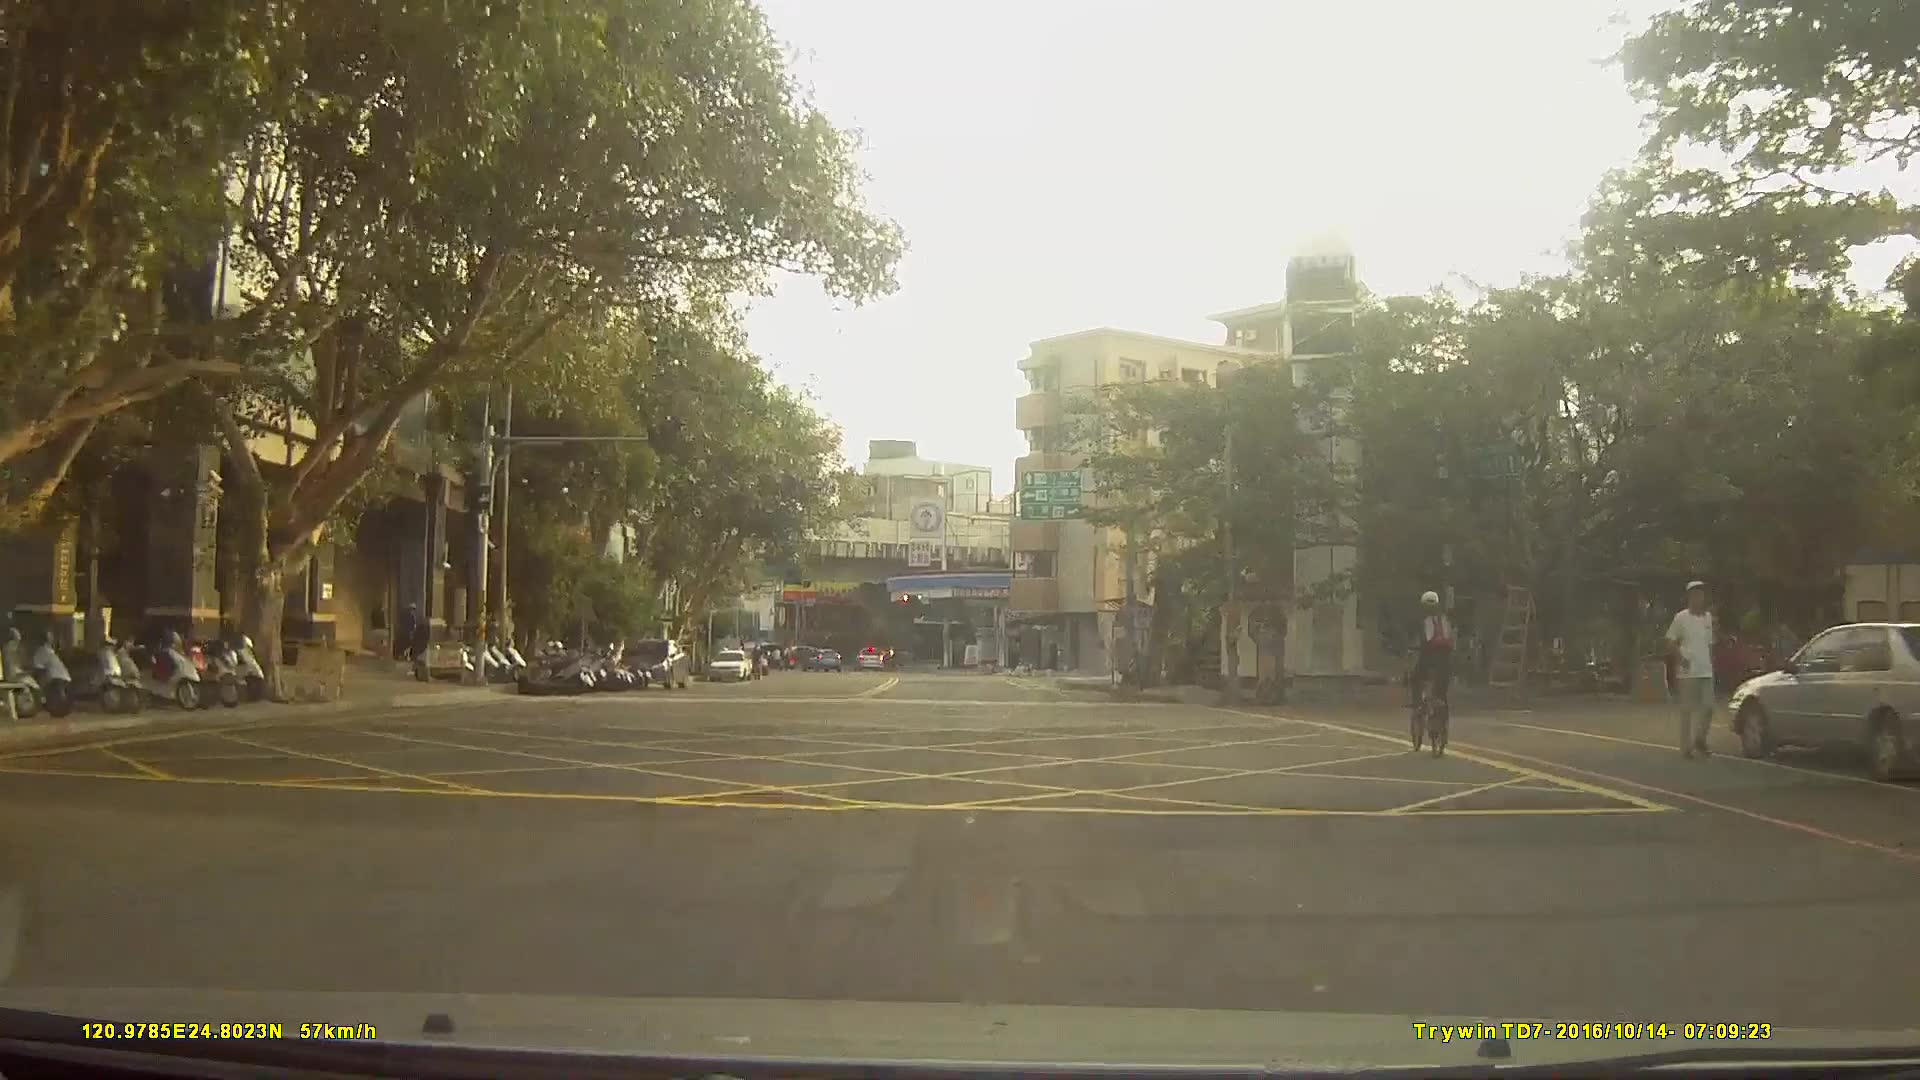pedestrian: (1663, 581, 1730, 764), (369, 600, 391, 660)
rider: (1397, 589, 1458, 754)
vehicle: (1727, 620, 1920, 781), (620, 638, 688, 691), (705, 647, 749, 682), (800, 646, 840, 672), (851, 642, 885, 669)
